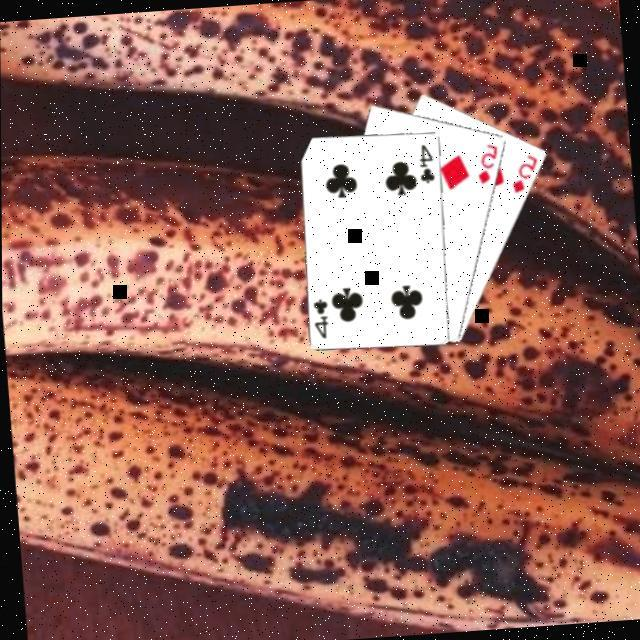4C: (309, 296, 334, 343), (416, 142, 438, 186)
5D: (508, 152, 543, 198), (474, 141, 504, 189)
